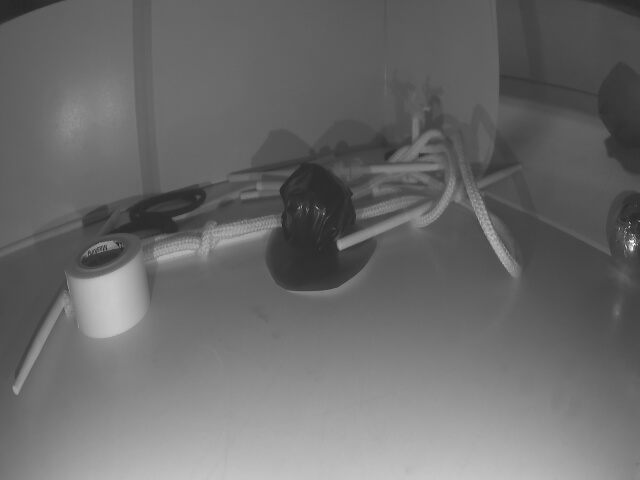Dead: (278, 162, 357, 260)
Live: (609, 198, 640, 274)
